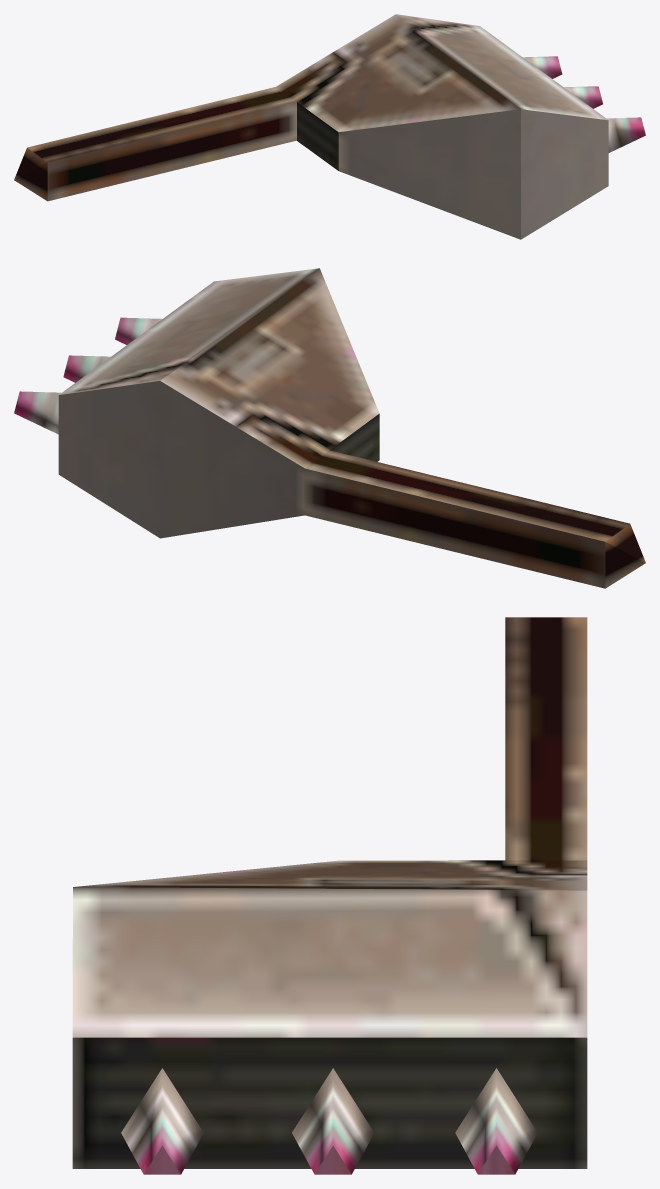
3 renders of one model, top to bottom at view 1: azimuth 30°, elevation 25°; view 2: azimuth 150°, elevation 25°; view 3: azimuth 270°, elevation 25°, orthographic. The views are drawn at different scales.
Parts seen in each view (by area): view 1: aw001; view 2: aw001; view 3: aw001.
Part boxes in pixels (x1,y1,x2,y2): aw001: (14,14,645,239); aw001: (14,268,645,588); aw001: (72,617,587,1174).
Bounding box in the file's own units: 10.48 × 2.46 × 4.4.
Materials: 1 (1 with a texture image).
